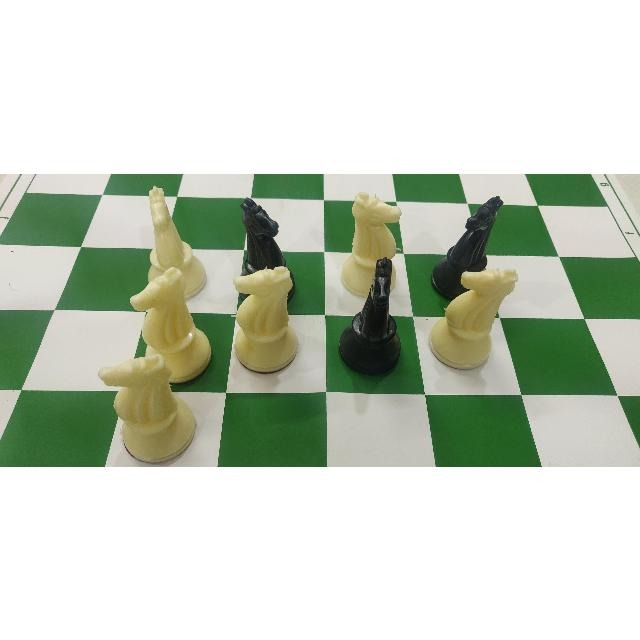black-knight: (338, 255, 402, 379), (337, 254, 401, 378), (430, 194, 504, 301), (431, 194, 503, 300), (239, 195, 297, 307), (239, 195, 296, 307)
white-knight: (94, 350, 201, 464), (90, 354, 200, 458), (96, 353, 197, 465), (126, 263, 214, 386), (125, 267, 217, 381), (424, 265, 519, 372), (128, 265, 211, 383), (430, 265, 524, 366), (429, 267, 519, 371), (229, 262, 301, 378), (338, 187, 408, 301), (229, 267, 303, 373), (138, 182, 210, 290), (231, 264, 297, 376), (146, 183, 207, 301), (340, 189, 405, 299), (148, 184, 208, 301), (349, 188, 405, 293)
